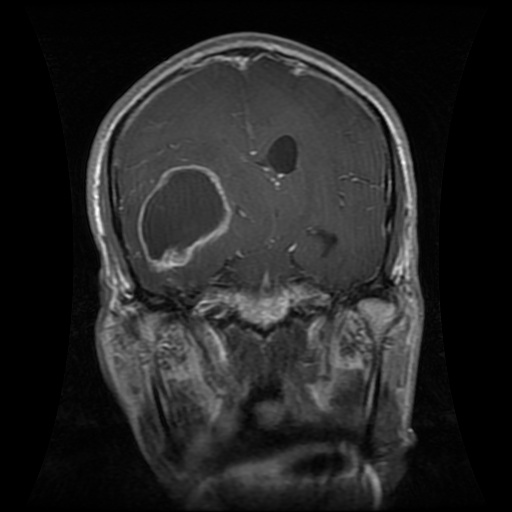glioma: (137, 163, 234, 273)
